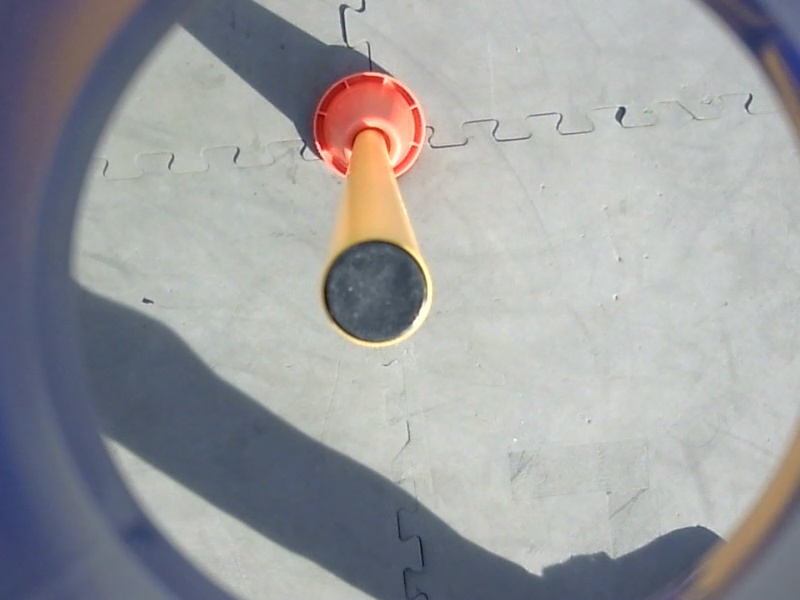tip: (314, 235, 439, 354)
